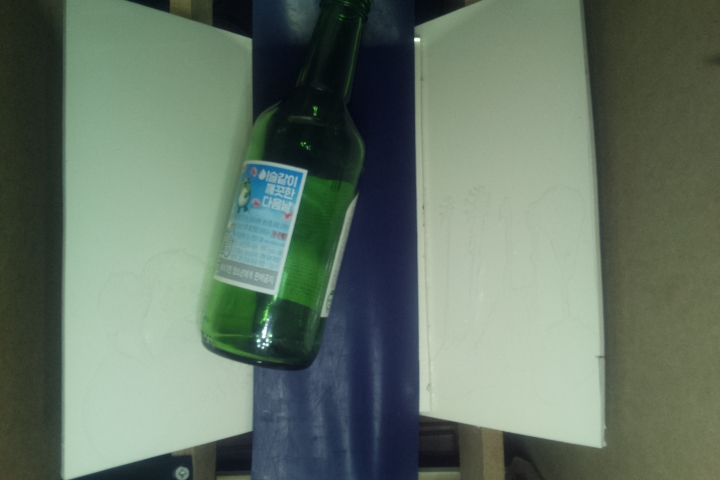soju: (196, 1, 370, 370)
